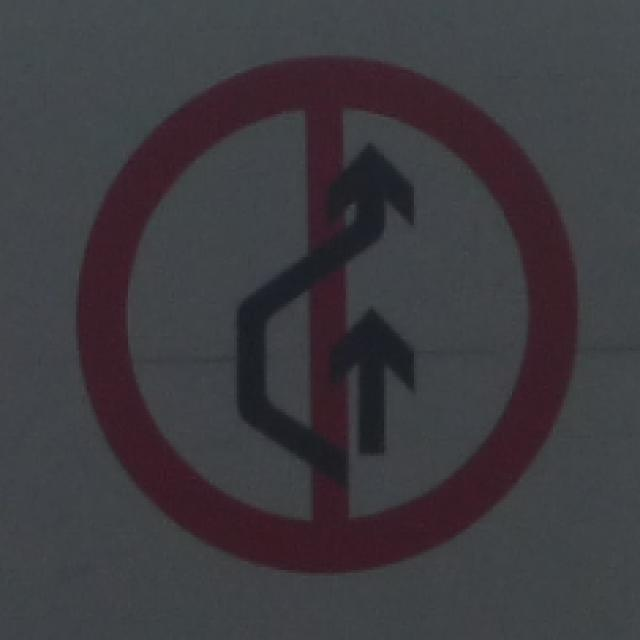Not that Direction: (90, 41, 570, 565)
